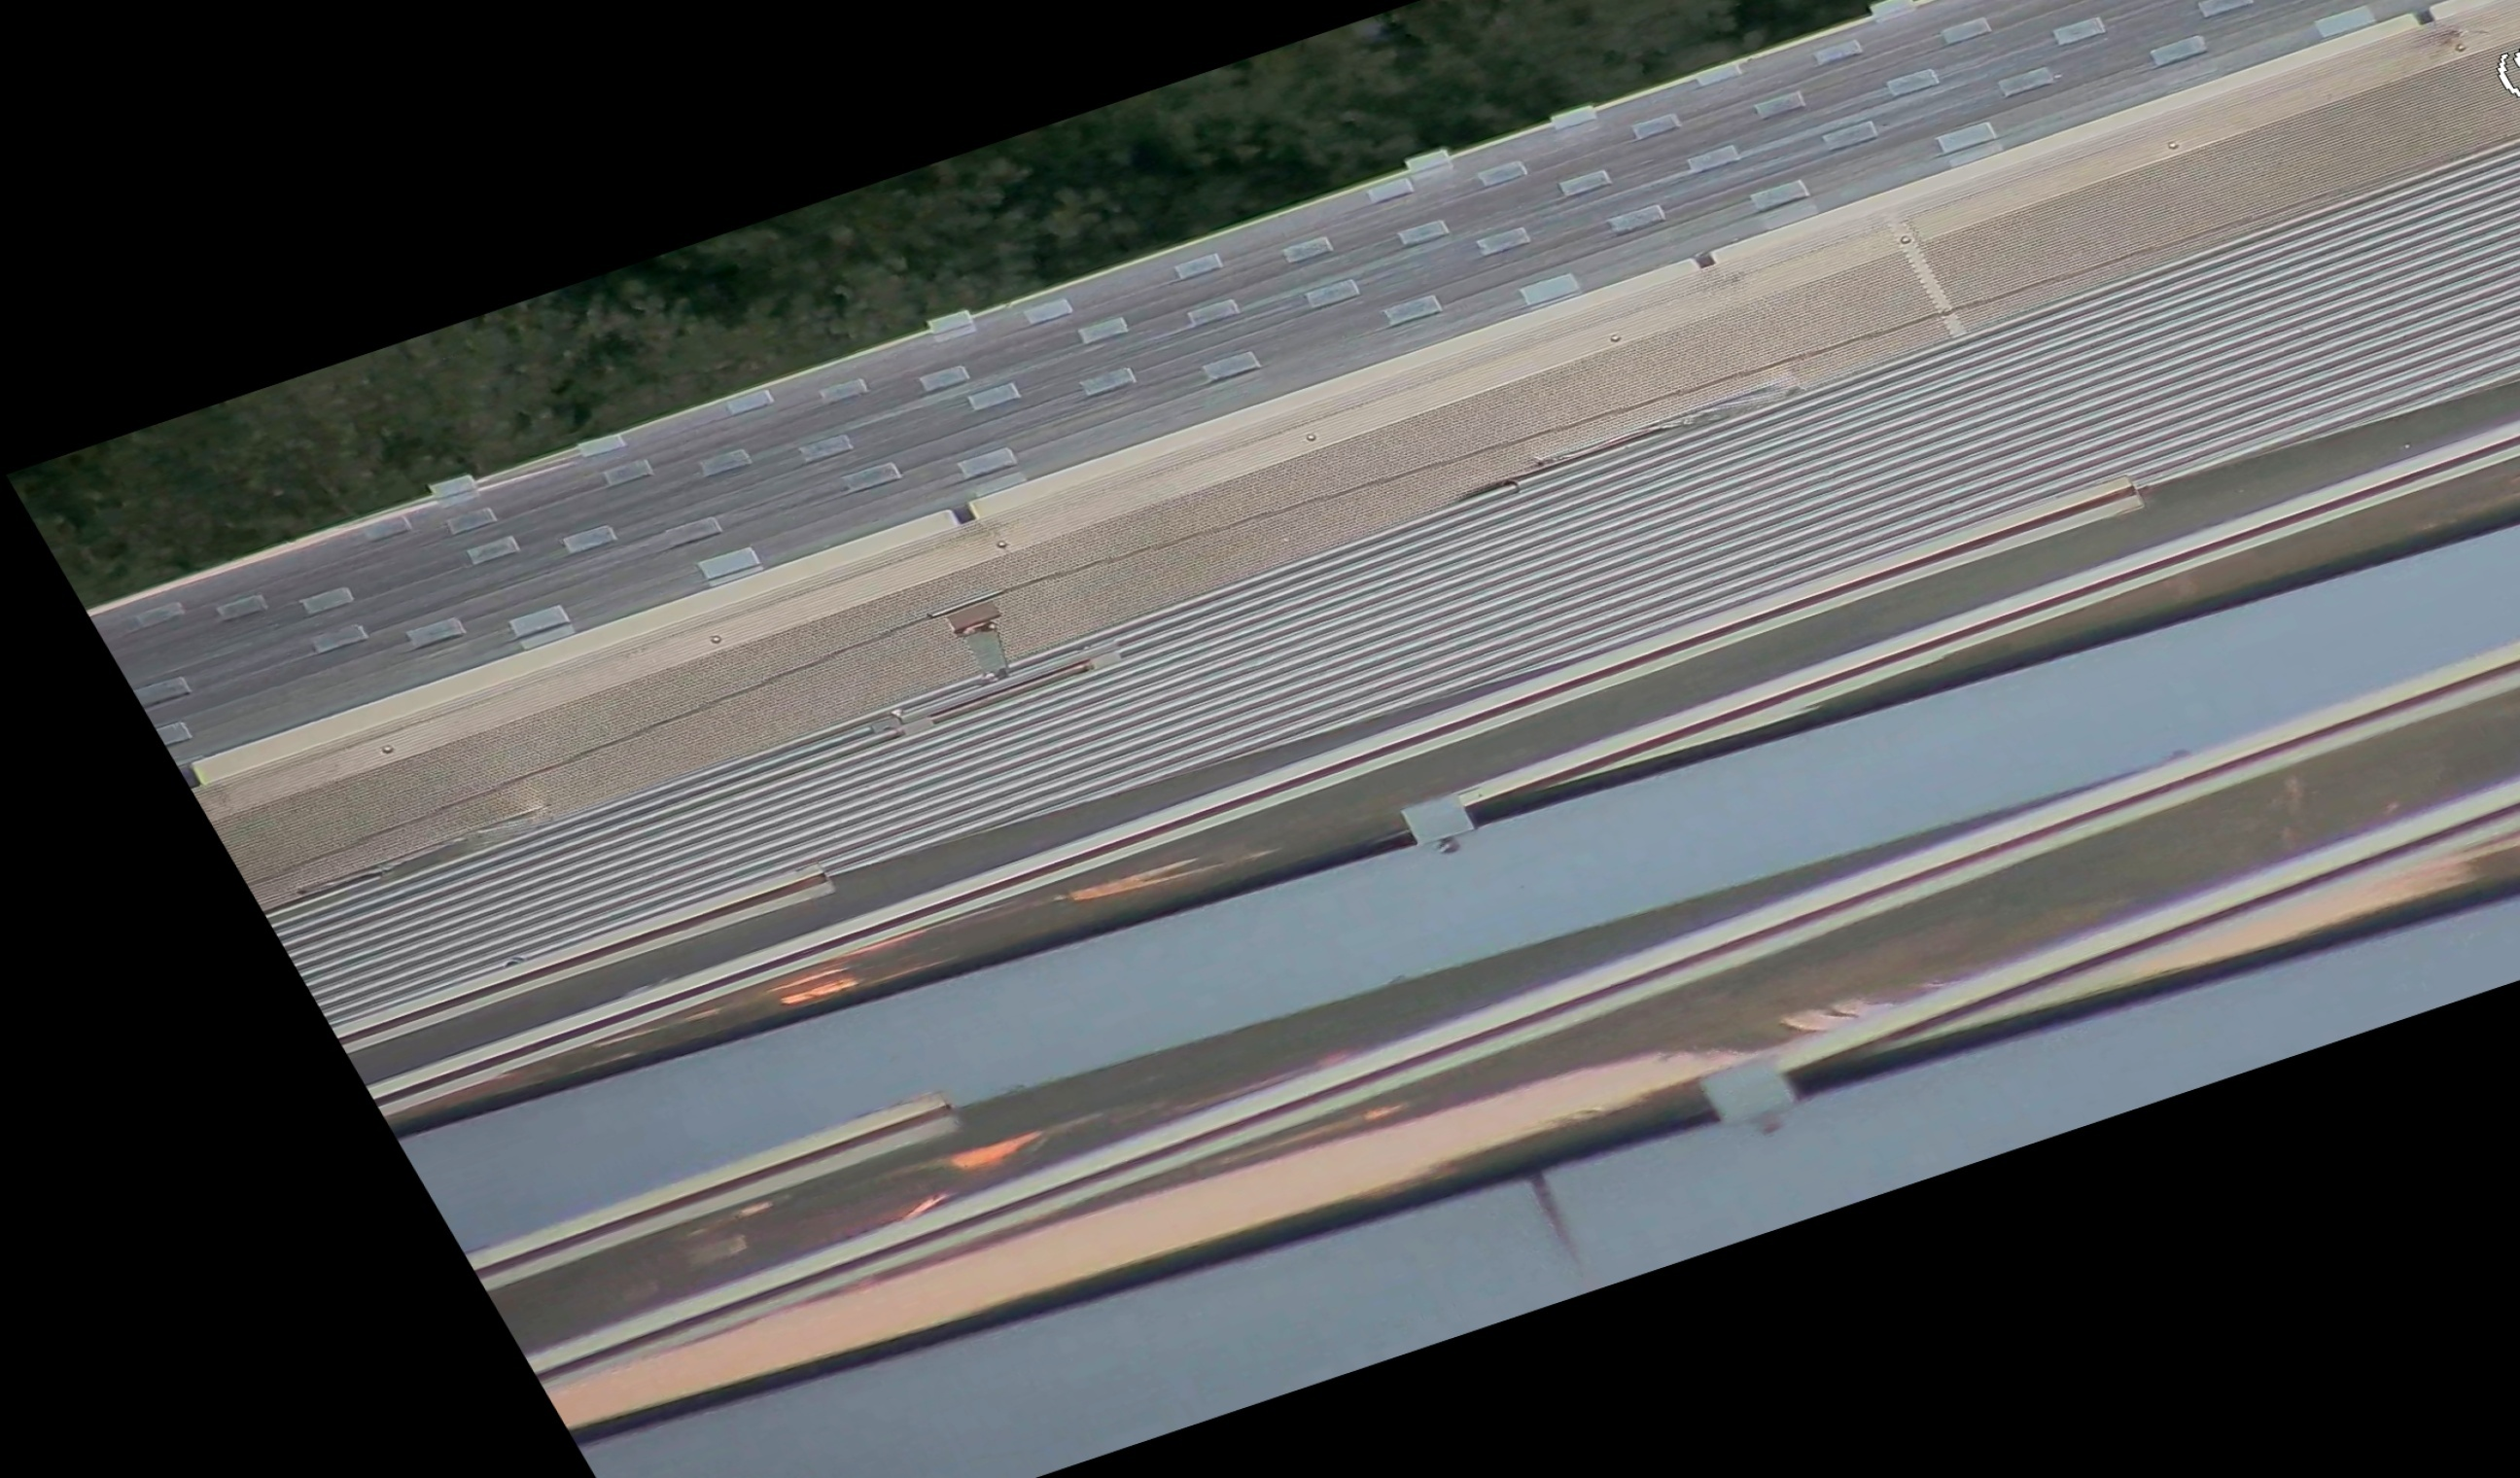Other: (904, 586, 1029, 686)
